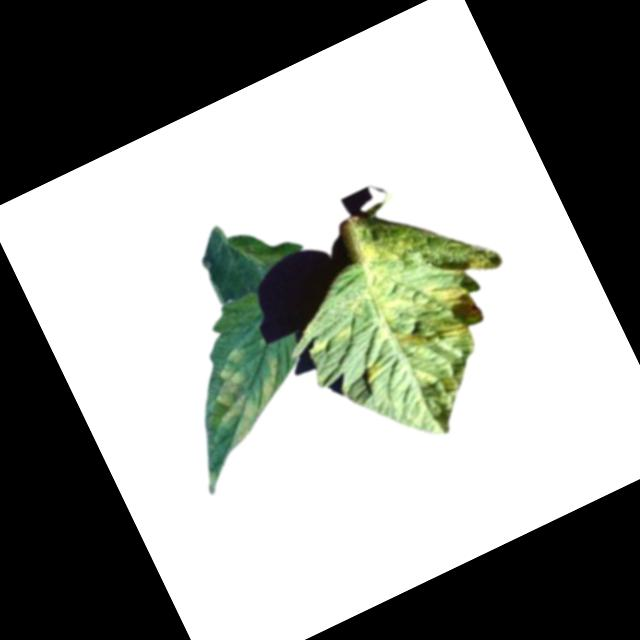Leaf_Mold: (340, 171, 554, 423), (191, 333, 305, 451), (359, 357, 392, 389)
